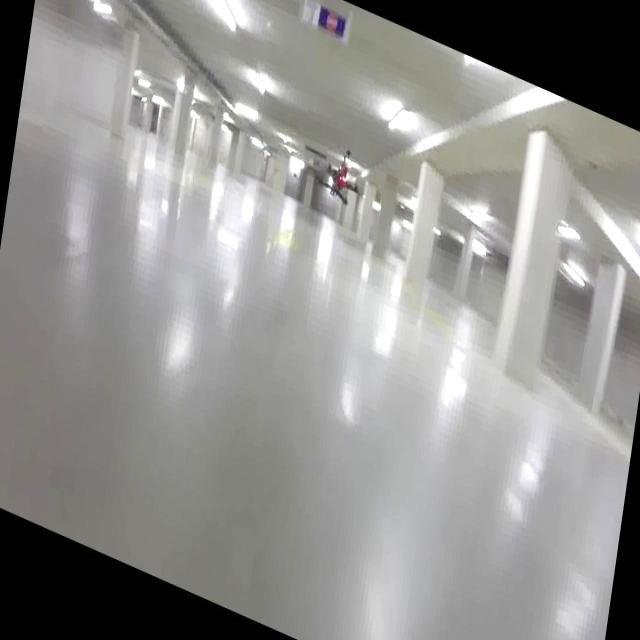drone: (307, 136, 371, 227)
